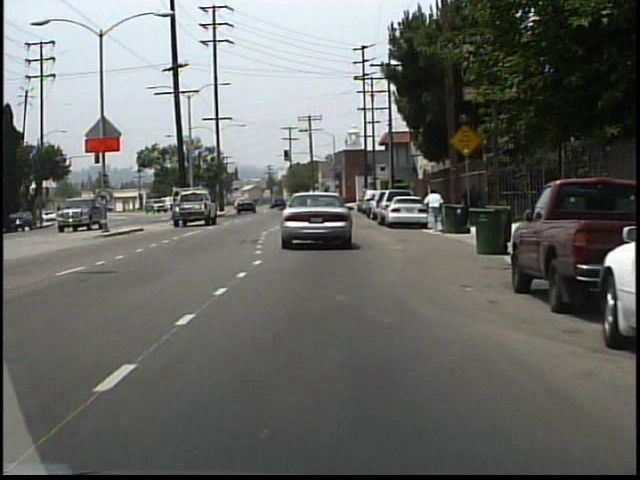person: (424, 187, 445, 234)
